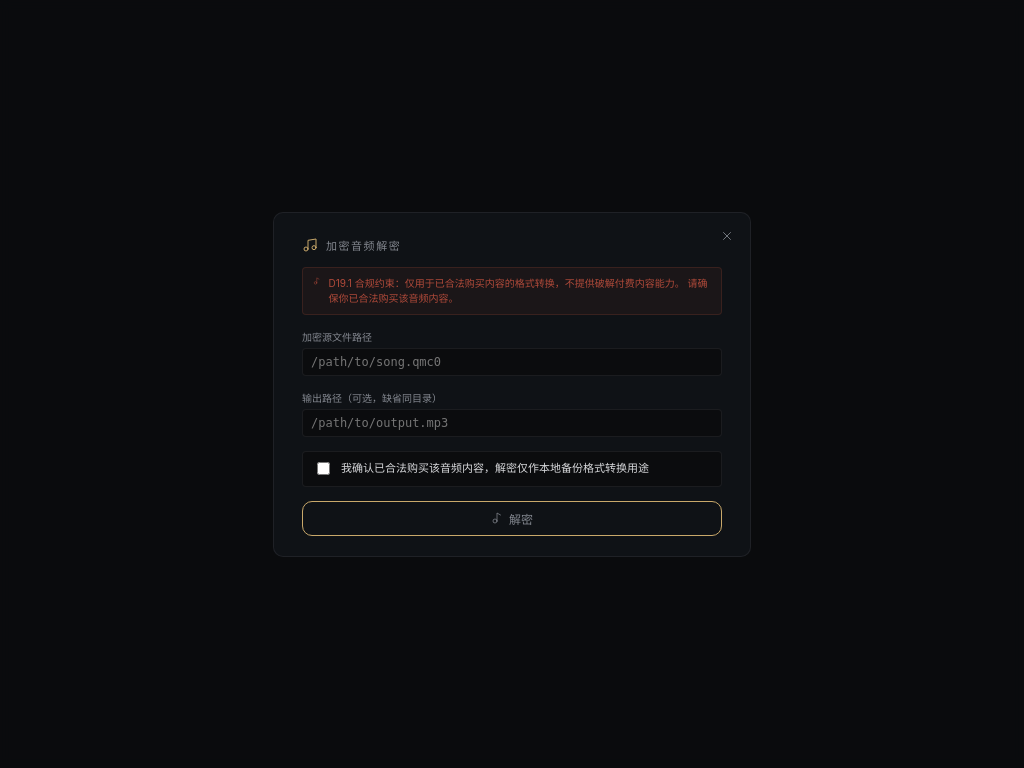
DecryptDialog 安全门 › 输入路径 + 勾选确认后按钮启用
In the field with test id "decrypt-path-input": (512, 362) [302,348,722,376], type "/music/a.qmc0"
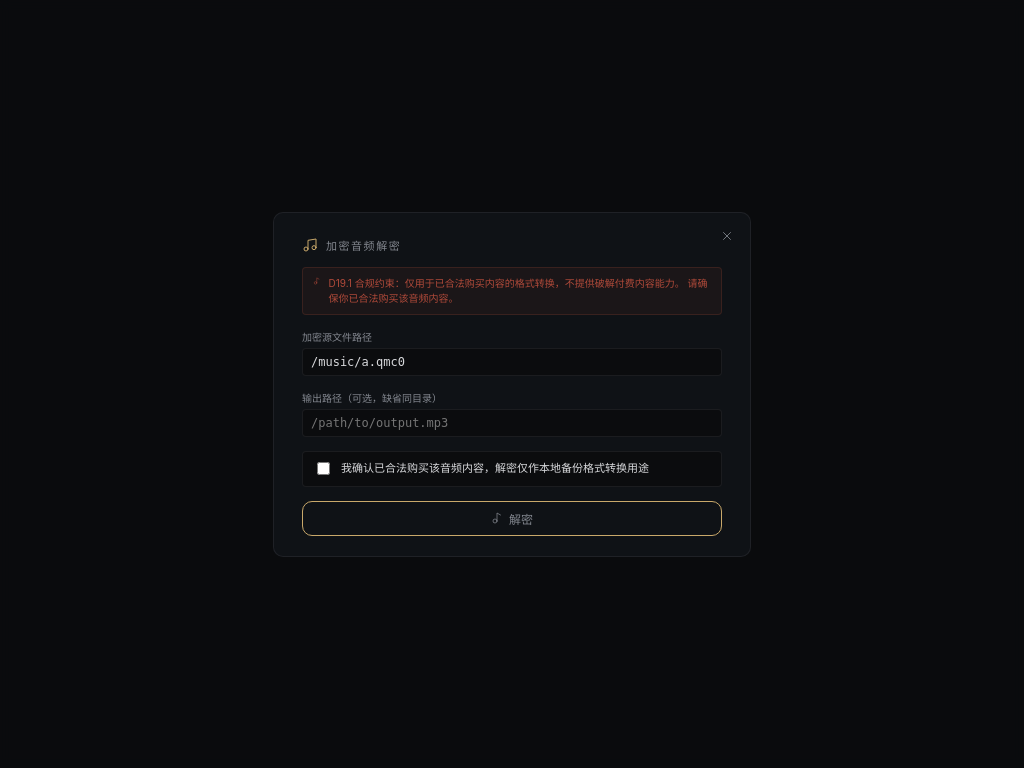
Click the checkbox with test id "decrypt-confirm-checkbox": (324, 468) [317,462,330,474]
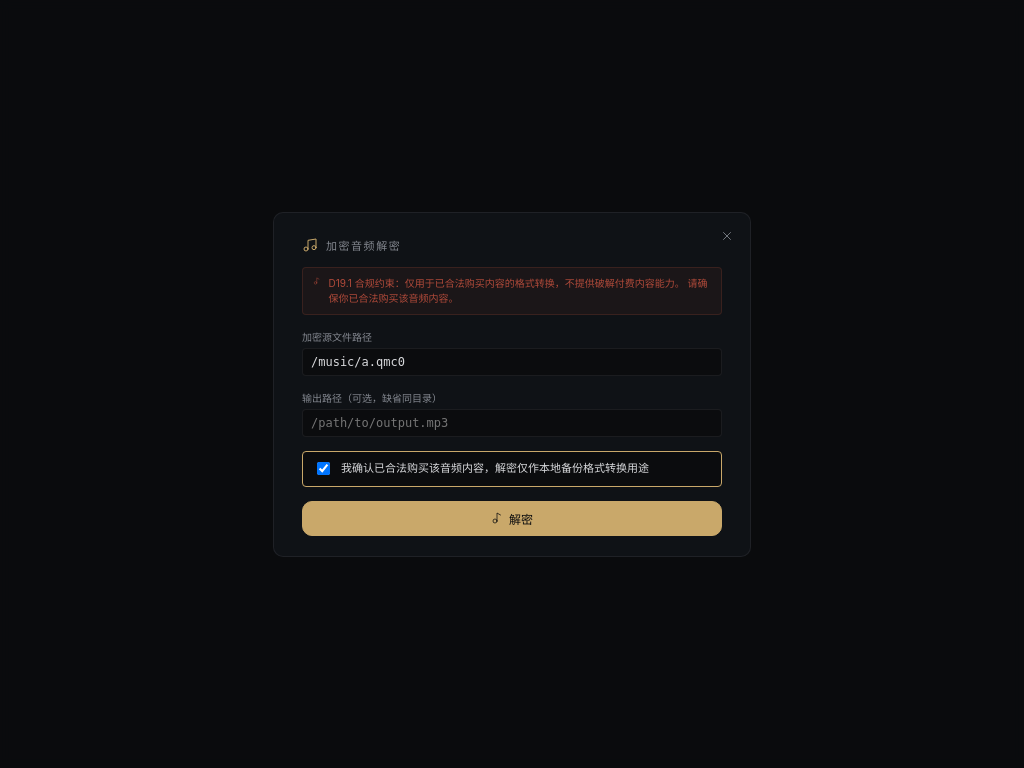
Check: the button with test id "decrypt-submit-btn" is enabled, box [302,500,722,536]
